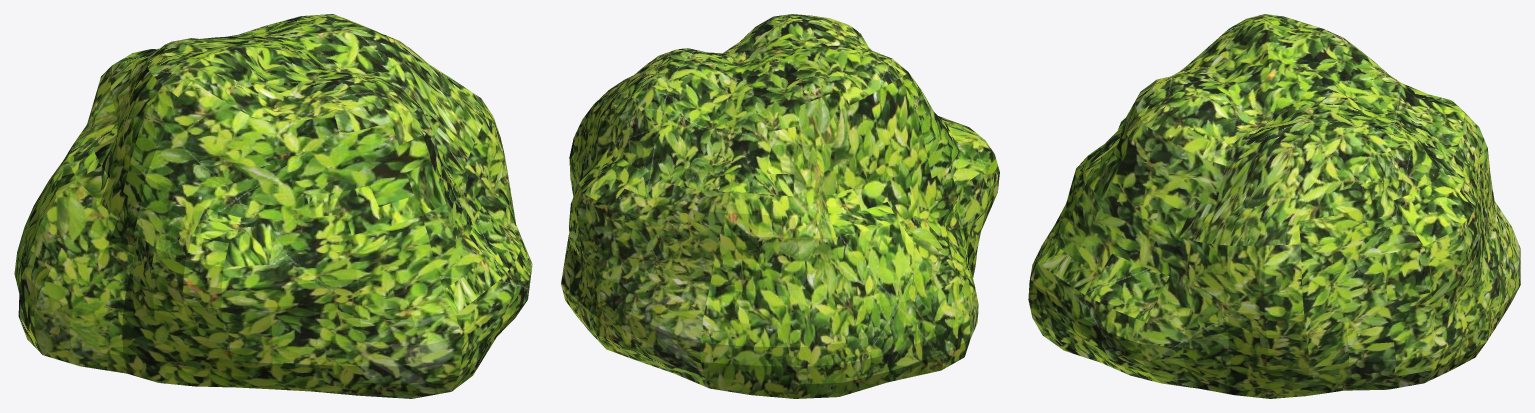
File: bush_B.obj
3 views of the same model, side by side, from view 1: azimuth 30°, elevation 25°; view 2: azimuth 150°, elevation 25°; view 3: azimuth 270°, elevation 25° (orthographic). The views are drawn at different scales.
Visible parts, largest first — view 1: Sphere; view 2: Sphere; view 3: Sphere.
Boxes of the visible parts, box(x1,y1,x2,y2) form: Sphere: box(14, 14, 532, 398); Sphere: box(561, 14, 999, 398); Sphere: box(1028, 14, 1520, 398).
Bounding box in the file's own units: 0.9407 × 0.596 × 0.9691.
1 material, 1 textured.
